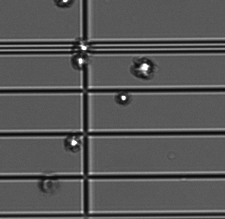Dead Cell: (40, 174, 59, 195)
Living Cell: (130, 58, 156, 79), (63, 134, 84, 153), (69, 54, 93, 70), (115, 90, 132, 106), (75, 40, 92, 54), (52, 1, 75, 9)
